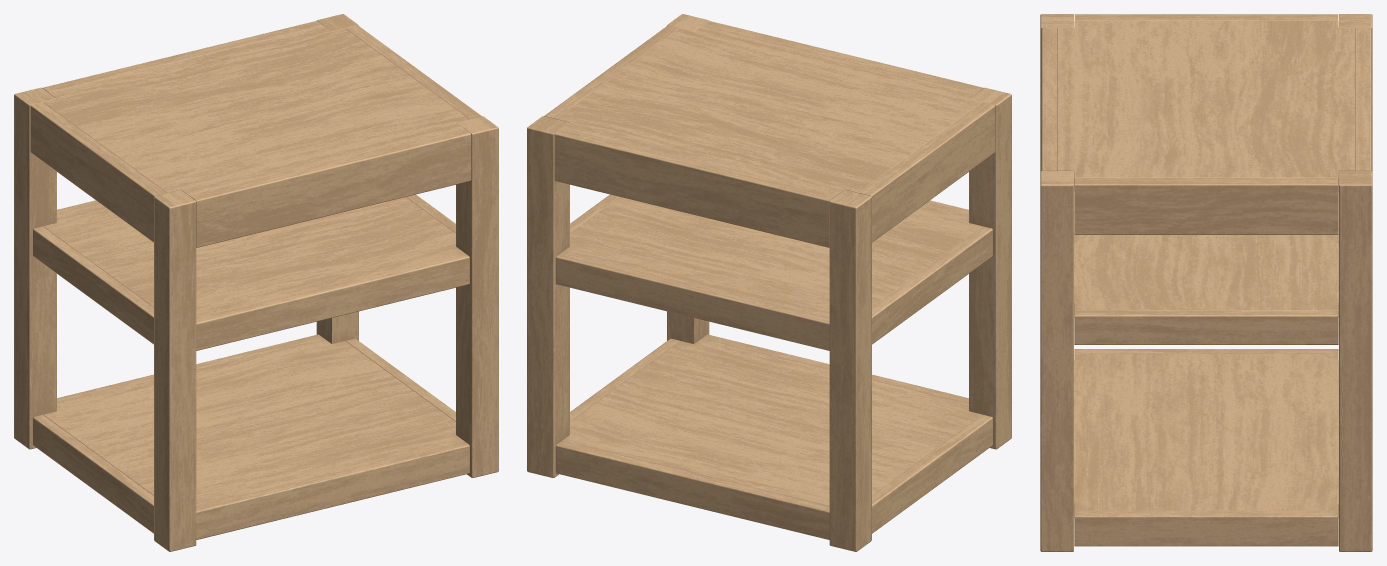
The model's file is oak.glb.
The picture shows the model from 3 angles, left to right: view 1: azimuth 30°, elevation 25°; view 2: azimuth 150°, elevation 25°; view 3: azimuth 270°, elevation 25°; orthographic projection. The views are drawn at different scales.
Visible parts, largest first — view 1: krosna; view 2: krosna; view 3: krosna.
Part boxes in pixels (x1,y1,x2,y2): krosna: (14, 14, 498, 551); krosna: (527, 14, 1011, 551); krosna: (1040, 14, 1372, 551).
Size of the model in its own units: 0.55 by 0.5507 by 0.45.
1 material, 1 textured.
